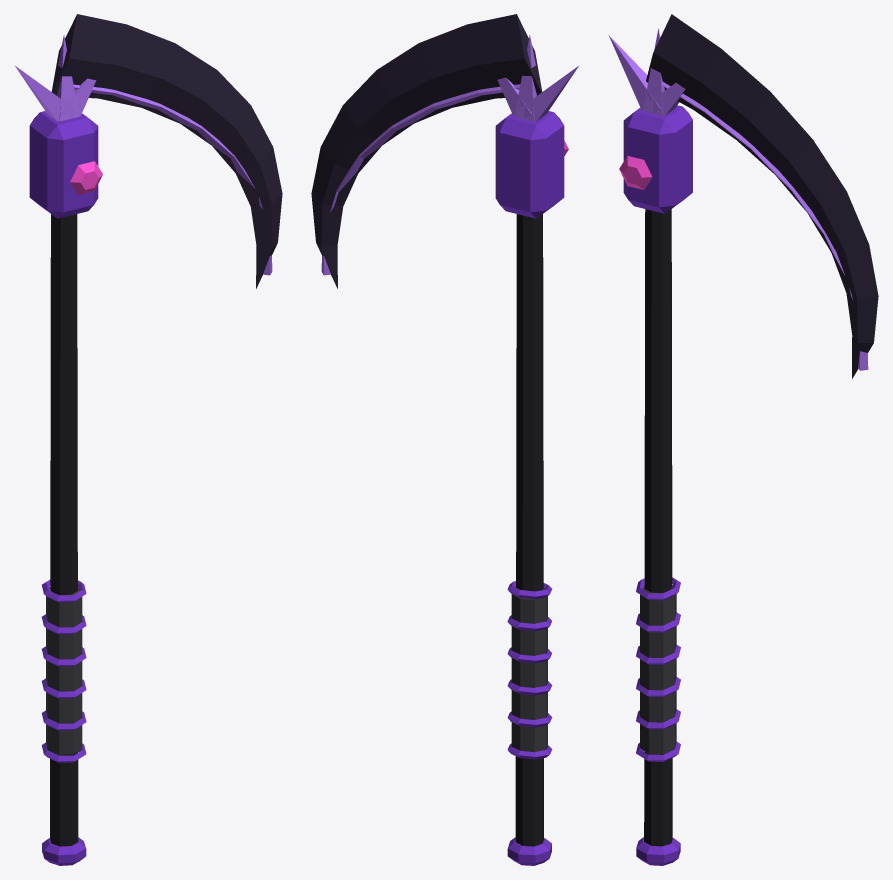
The model's file is ShadowScythe.fbx.
3 views of the same model, side by side, from view 1: azimuth 30°, elevation 25°; view 2: azimuth 150°, elevation 25°; view 3: azimuth 330°, elevation 25° (orthographic).
Visible parts, largest first — view 1: ShadowScythe; view 2: ShadowScythe; view 3: ShadowScythe.
Boxes of the visible parts, left/top/right/bottom form: ShadowScythe: left=15, top=14, right=282, bottom=865; ShadowScythe: left=311, top=14, right=578, bottom=865; ShadowScythe: left=608, top=14, right=878, bottom=865.
Bounding box in the file's own units: 2.1 × 6.3 × 0.55.
Materials: 1 (1 with a texture image).
